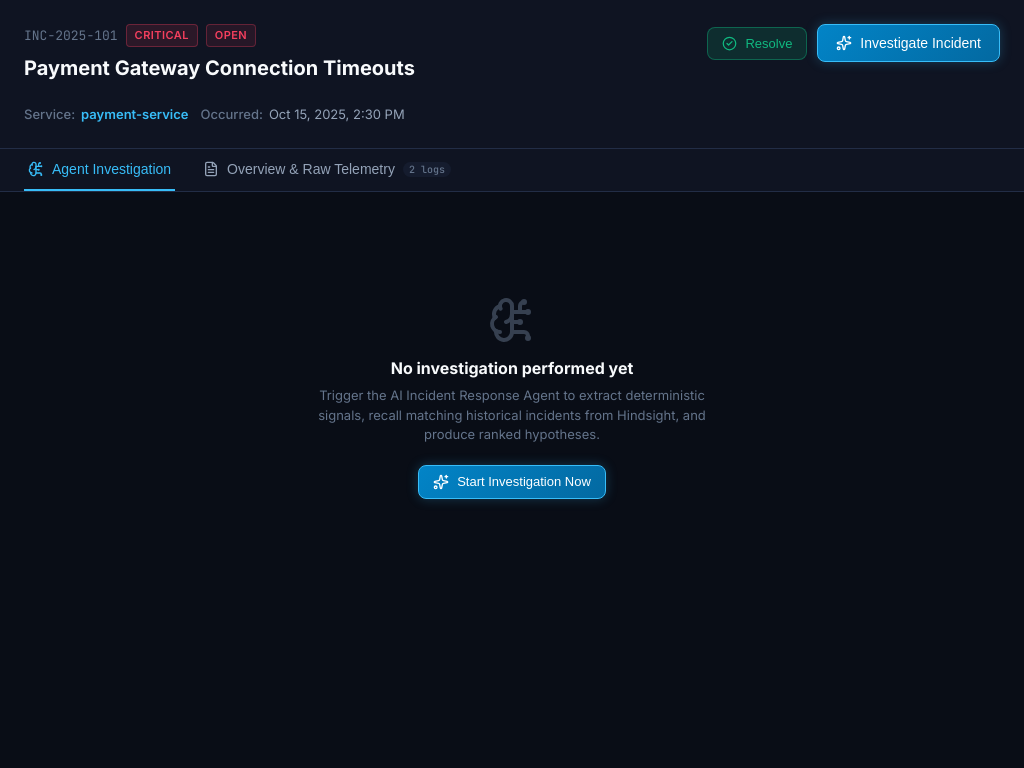
Test: IncidentDetail Component › switches to Overview tab and displays raw telemetry & logs
Click the button "Overview & Raw Telemetry 2 logs".
click(327, 170)  # box [199,149,455,191]
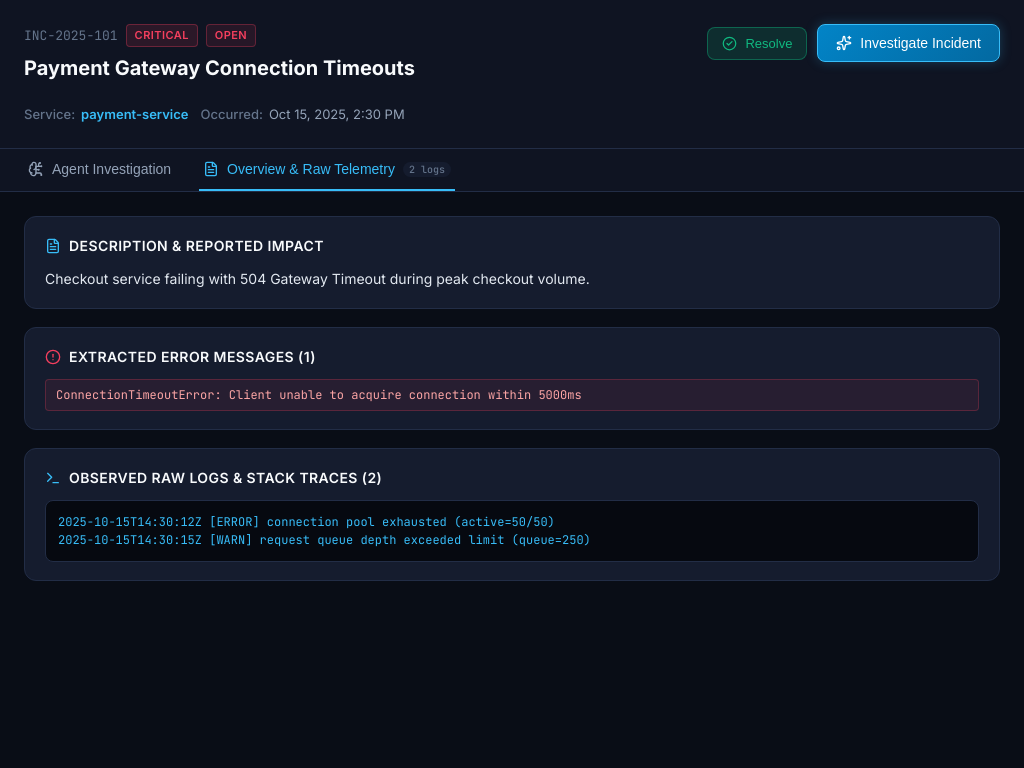
Check: the text "Checkout service failing with 504 Gateway Timeout" is shown, box [45,270,590,287]
Check: the text "connection pool exhausted (active=50/50)" is shown, box [58,514,591,548]
Check: the text "ConnectionTimeoutError: Client unable to acquire connection" is shown, box [56,387,582,403]
